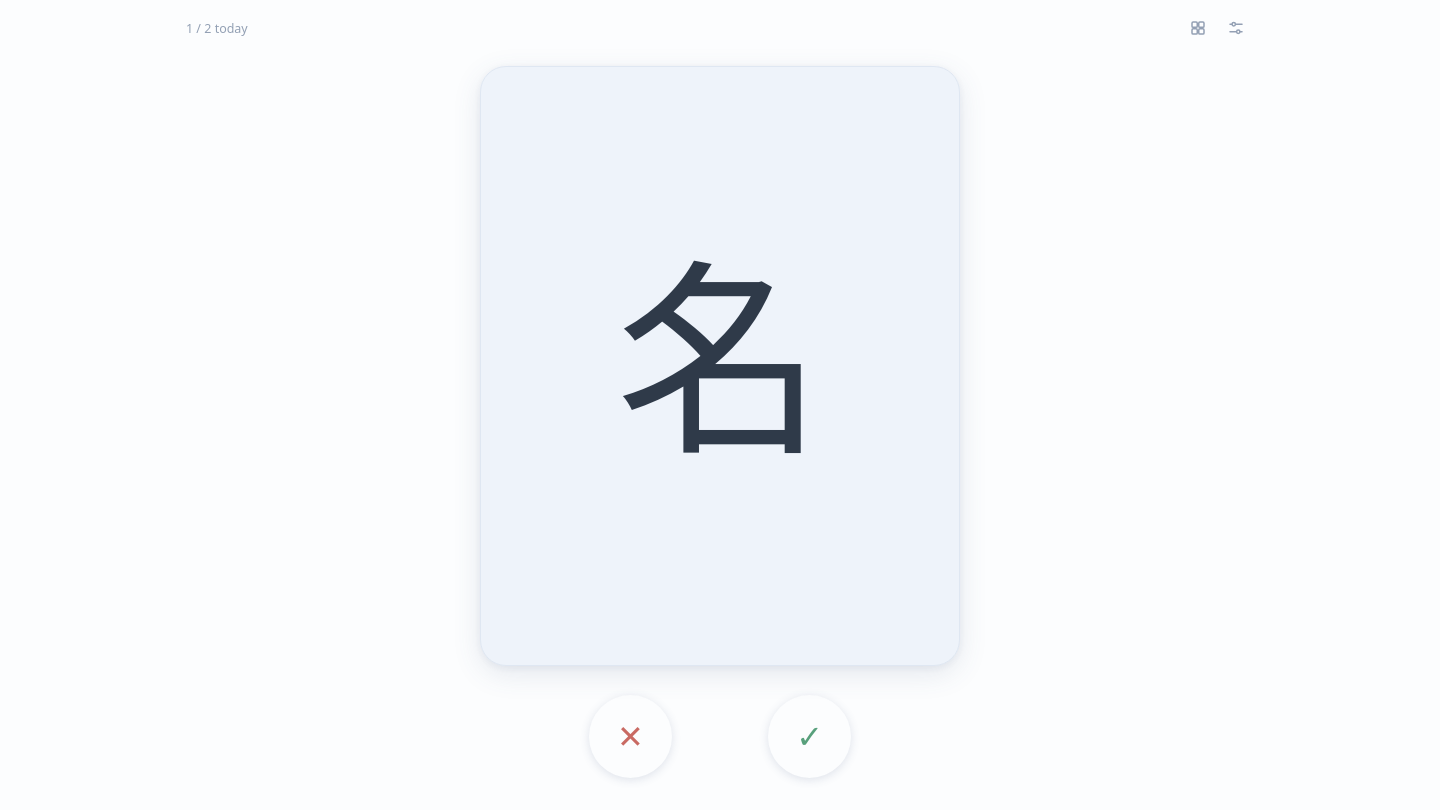
Test case: daily lesson › check then 'actually no' records a fail instead
Click the button named "I know this": coordinates (810, 736) x1=768 y1=695 x2=851 y2=778
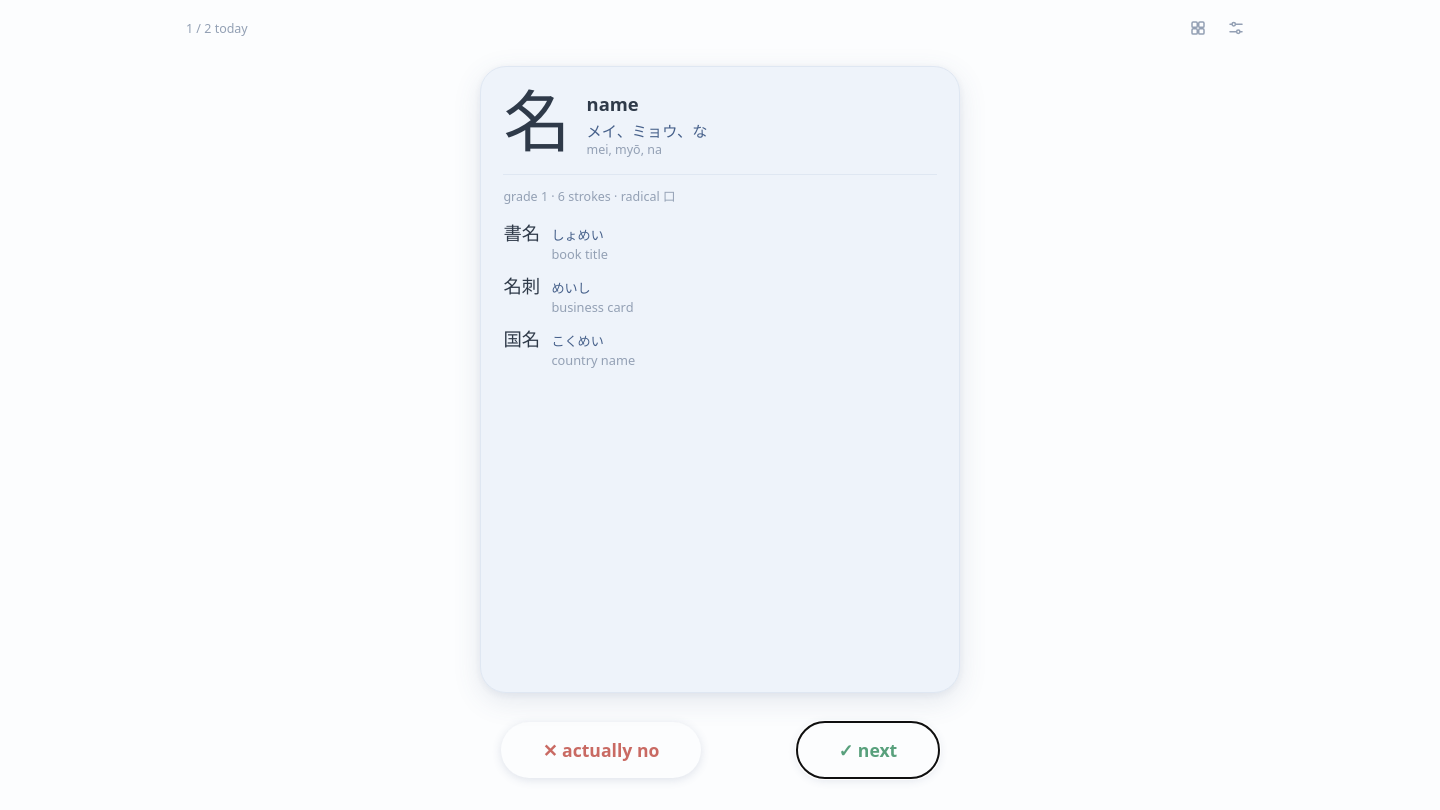
Click the button "✕ actually no": coordinates (601, 750) x1=501 y1=722 x2=701 y2=778
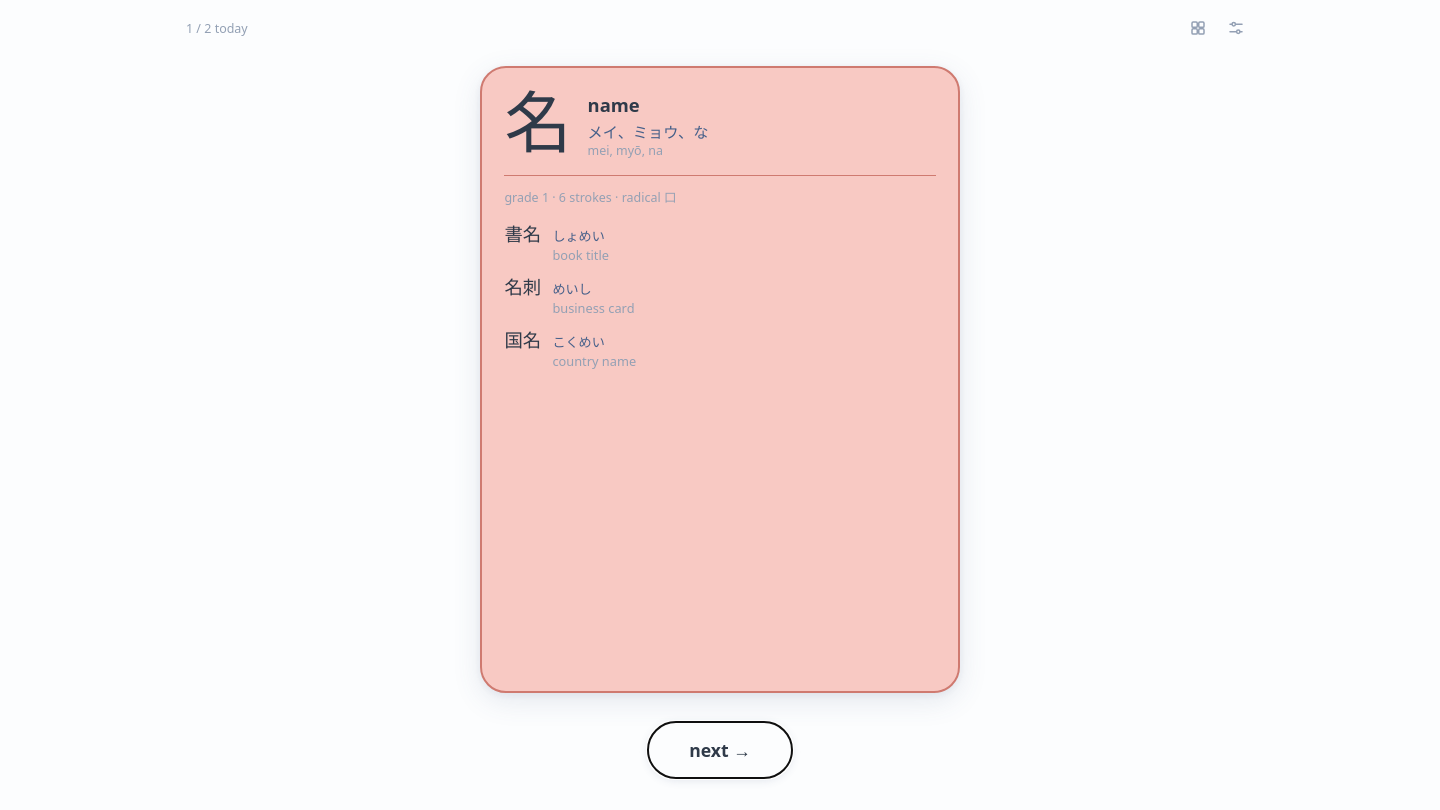
Expected: the text "1 / 2 today" is shown, x1=186 y1=20 x2=248 y2=37
Result: the button "next →" is shown at x1=648 y1=722 x2=792 y2=778
